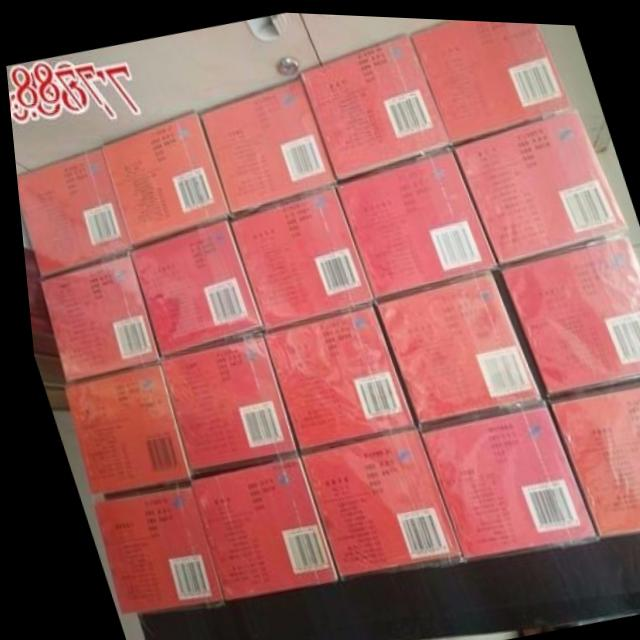box: (413, 395, 590, 556), (447, 101, 625, 259), (369, 267, 537, 425), (287, 425, 455, 581), (331, 146, 494, 299), (257, 299, 414, 453), (495, 224, 640, 387), (297, 31, 449, 182), (222, 182, 368, 330), (182, 453, 327, 602), (151, 332, 288, 480), (409, 16, 569, 139), (197, 66, 331, 211), (98, 106, 228, 247), (125, 216, 257, 354), (82, 478, 214, 614), (539, 366, 640, 534), (55, 362, 182, 493), (31, 248, 152, 379), (13, 143, 126, 277)
